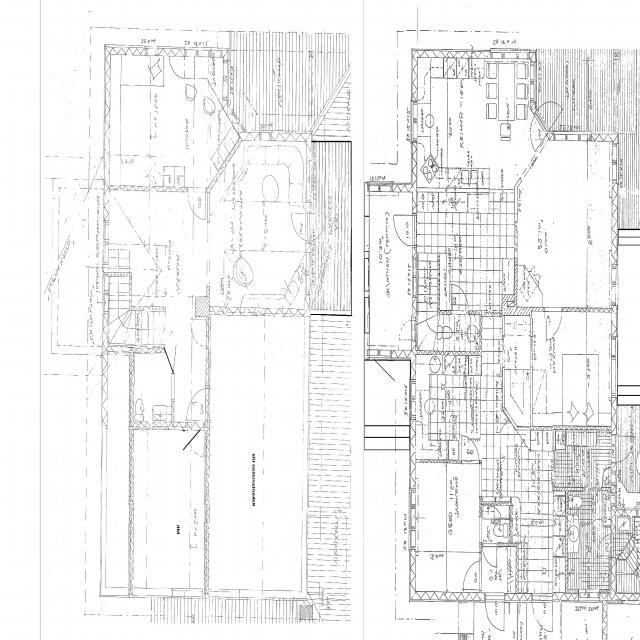door: (522, 109, 550, 153), (534, 90, 562, 134), (532, 593, 552, 633), (393, 215, 416, 245), (374, 350, 392, 388), (486, 593, 504, 631), (187, 390, 210, 419), (182, 422, 200, 458), (461, 561, 482, 590), (165, 342, 185, 372), (287, 214, 310, 240), (611, 436, 633, 462), (304, 214, 326, 240), (188, 186, 205, 218), (545, 307, 562, 338), (462, 433, 479, 463), (452, 283, 468, 314), (483, 543, 497, 569), (598, 535, 616, 555)
